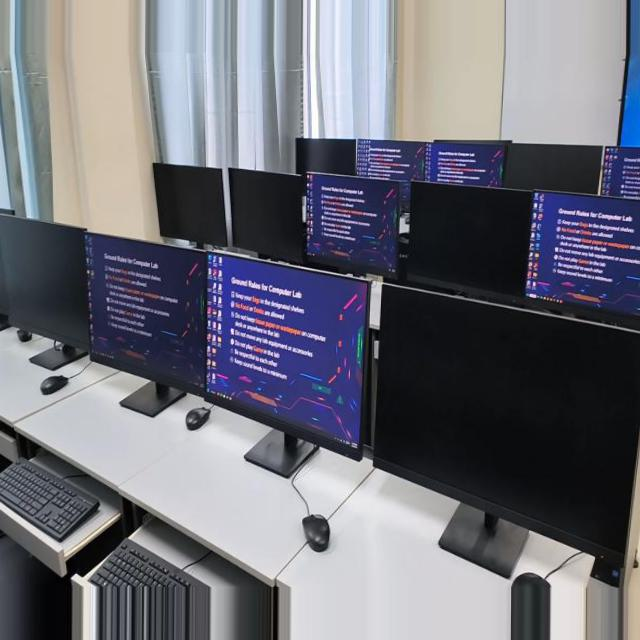Digital board: (595, 0, 640, 113)
Keyboard: (11, 488, 118, 586), (101, 581, 220, 639)
Monitor: (369, 278, 624, 615), (215, 240, 364, 474), (103, 217, 215, 408), (509, 165, 640, 322), (400, 155, 515, 290), (21, 196, 108, 360), (306, 143, 393, 267), (235, 140, 307, 254), (165, 133, 234, 234), (488, 108, 580, 169), (0, 184, 36, 327), (415, 108, 490, 161), (578, 113, 640, 177), (352, 104, 420, 155), (296, 103, 352, 147)
Mouse: (305, 552, 331, 597), (498, 620, 534, 639), (197, 424, 220, 452), (63, 387, 89, 409)
